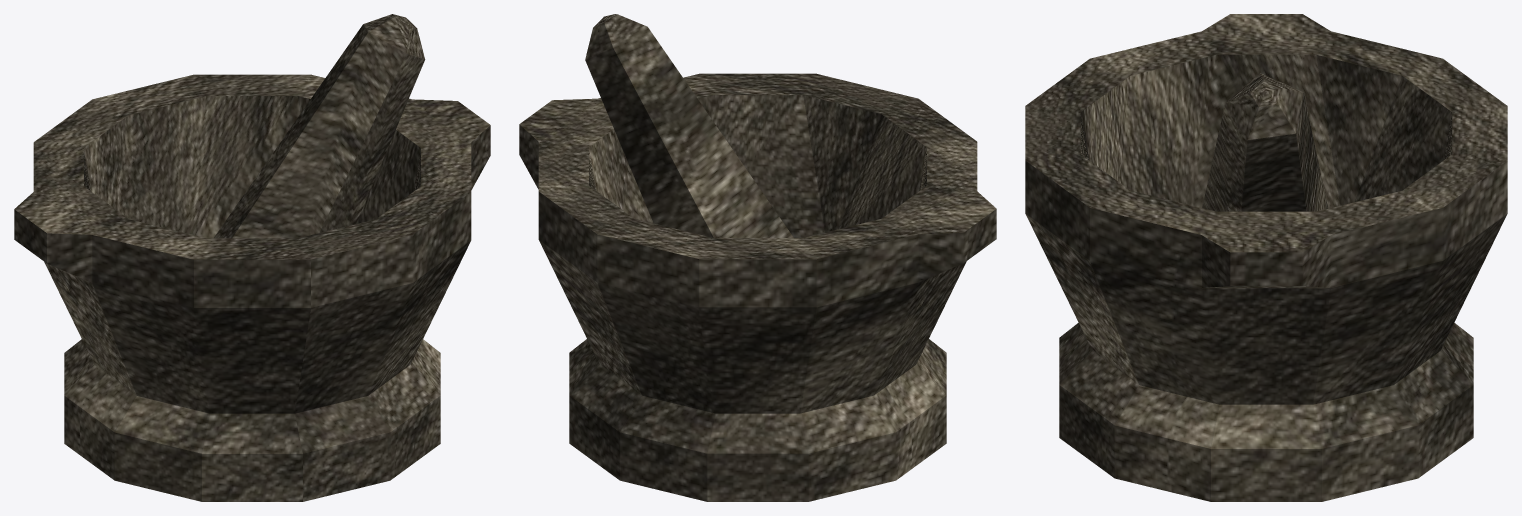
File: mozdzierz.obj
3 views of the same model, side by side, from view 1: azimuth 30°, elevation 25°; view 2: azimuth 150°, elevation 25°; view 3: azimuth 270°, elevation 25° (orthographic). The views are drawn at different scales.
Bounding box in the file's own units: 2.89 × 2.32 × 2.47.
Materials: 1 (1 with a texture image).
